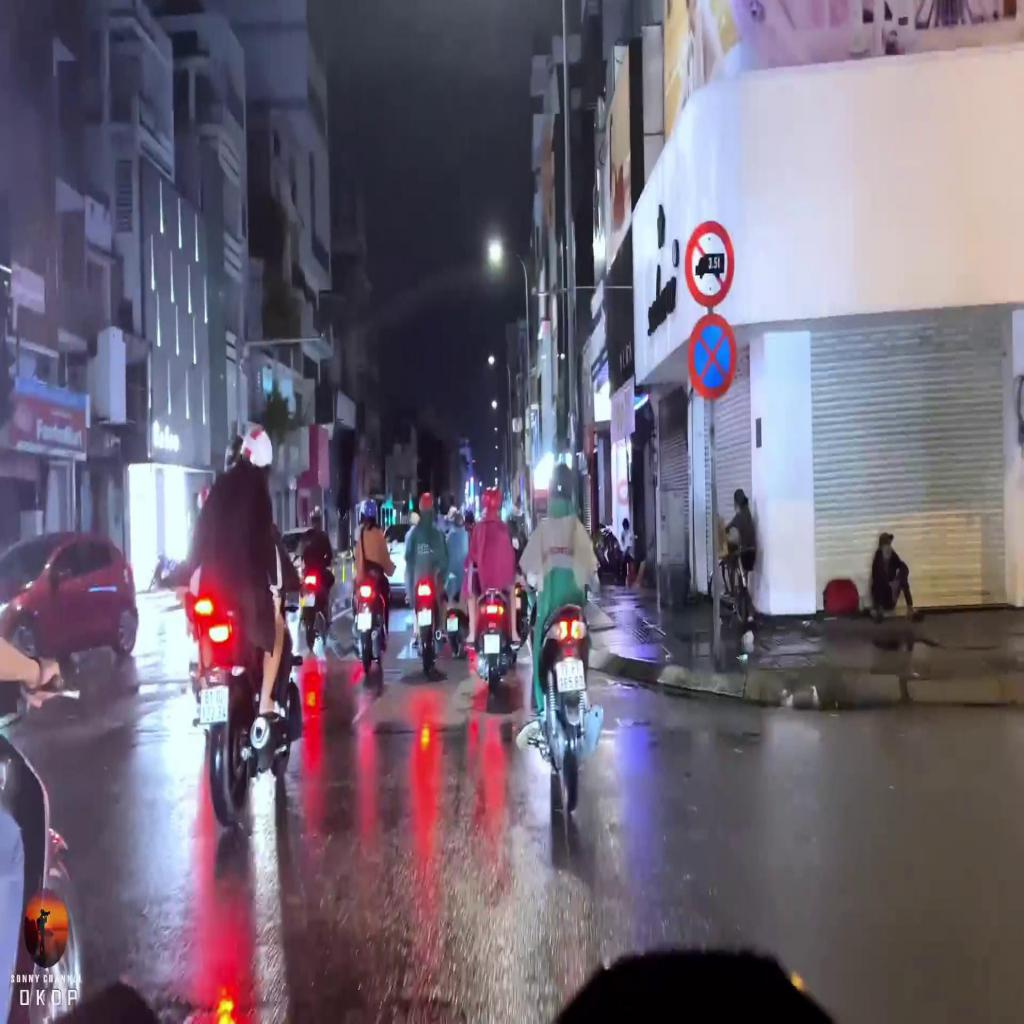cam_dung_xe_va_do_xe: (686, 314, 736, 399)
cam_o_to_tai: (684, 221, 734, 306)
